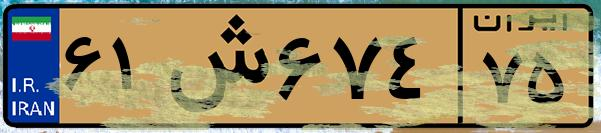1: (110, 28, 158, 98)
4: (385, 28, 445, 110)
5: (525, 38, 570, 115)
6: (270, 28, 330, 110), (57, 26, 110, 100)
7: (330, 28, 385, 110), (475, 38, 525, 113)
ش: (158, 12, 270, 120)
